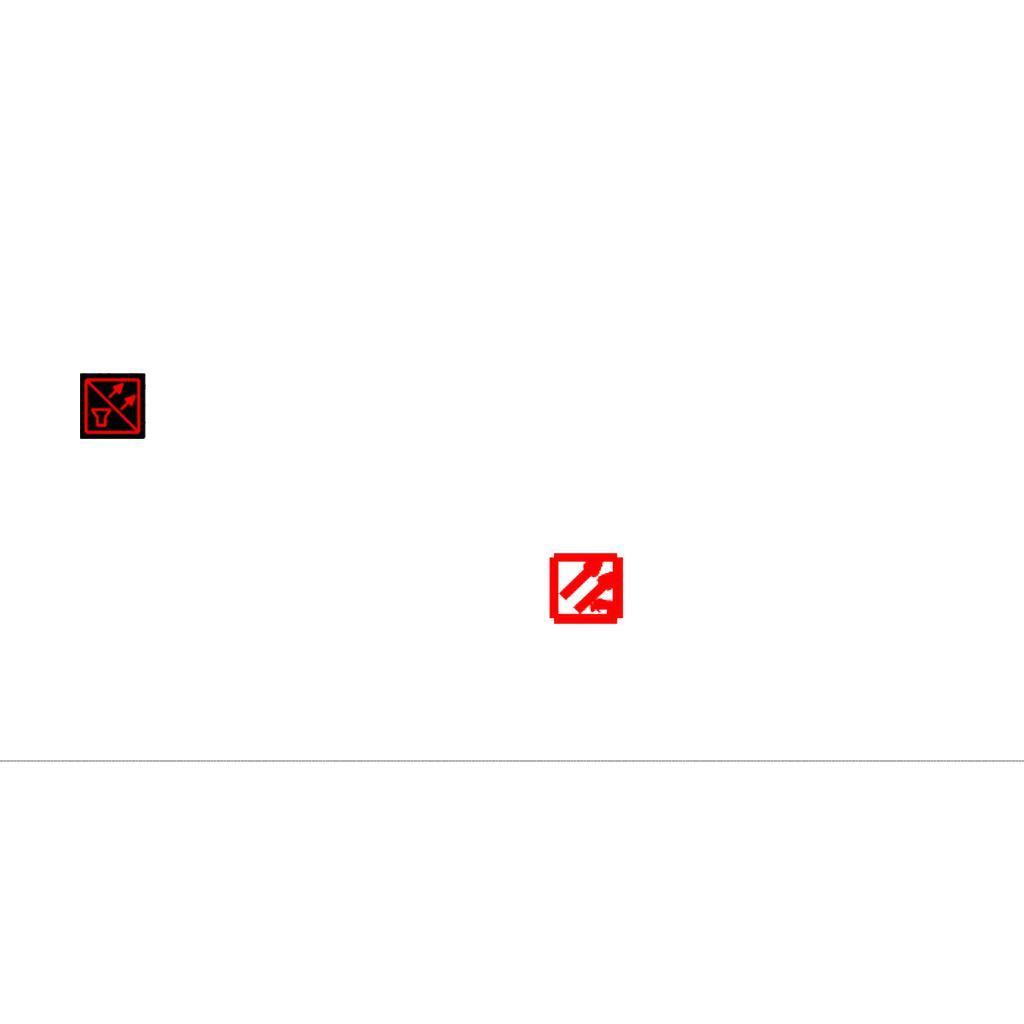OKW_Multisensormelder_(Kombination_optischer_Rauch-Kahlenmonoxid_Waerme-Melder): (80, 373, 146, 439)
OT_Multisensormelder_(Kombination_RMO_WMD): (532, 532, 645, 645)
